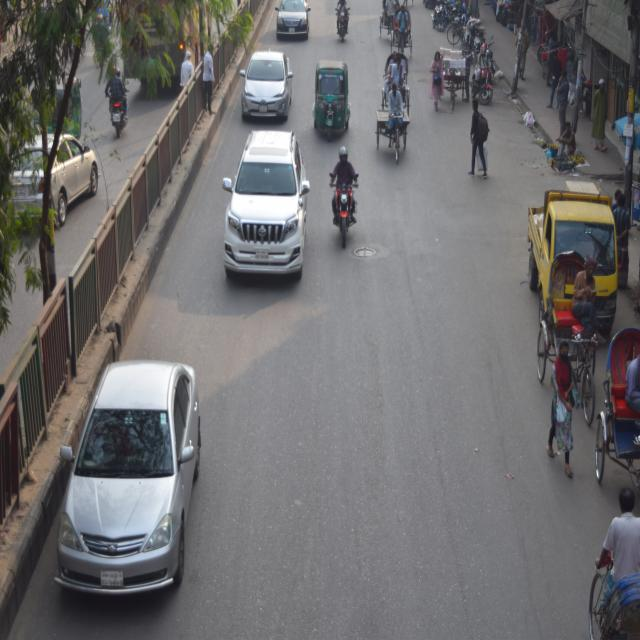car: (46, 353, 212, 597), (223, 127, 307, 278), (12, 121, 98, 224), (238, 42, 295, 120), (275, 3, 312, 42)
motorbike: (322, 147, 364, 257), (102, 74, 130, 140), (471, 52, 497, 112), (329, 0, 355, 44)
pickup-van: (524, 172, 618, 340)
